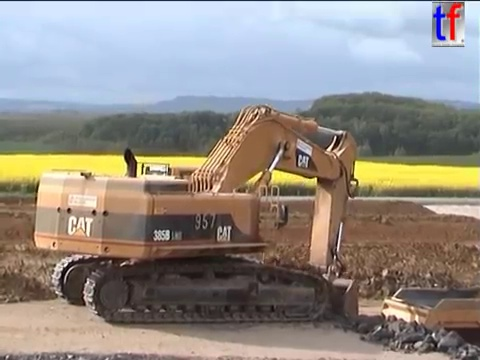excavator: (31, 102, 363, 336), (378, 282, 480, 360)
